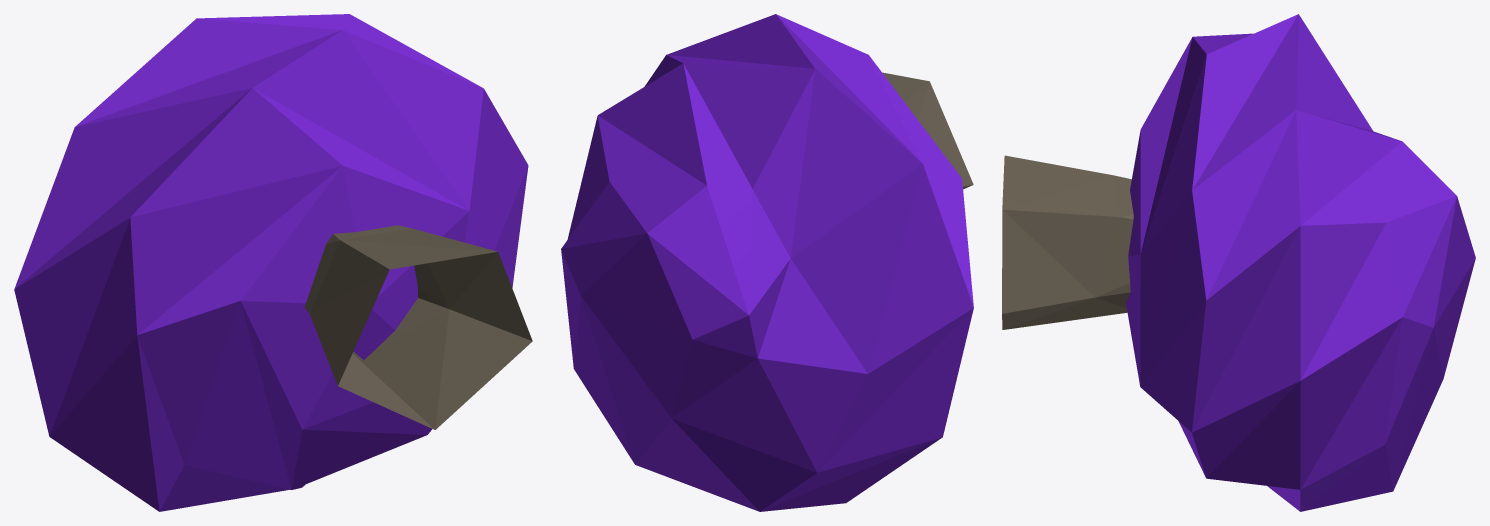
File: MysteryBush.fbx
3 renders of one model, left to right at view 1: azimuth 30°, elevation 25°; view 2: azimuth 150°, elevation 25°; view 3: azimuth 270°, elevation 25°, orthographic. The views are drawn at different scales.
Visible parts, largest first — view 1: Bush01; view 2: Bush01; view 3: Bush01.
Part boxes in pixels (x1,y1,x2,y2): Bush01: (14,14,532,511); Bush01: (561,14,973,511); Bush01: (1002,14,1475,511).
Size of the model in its own units: 35956 by 36910 by 35017.
